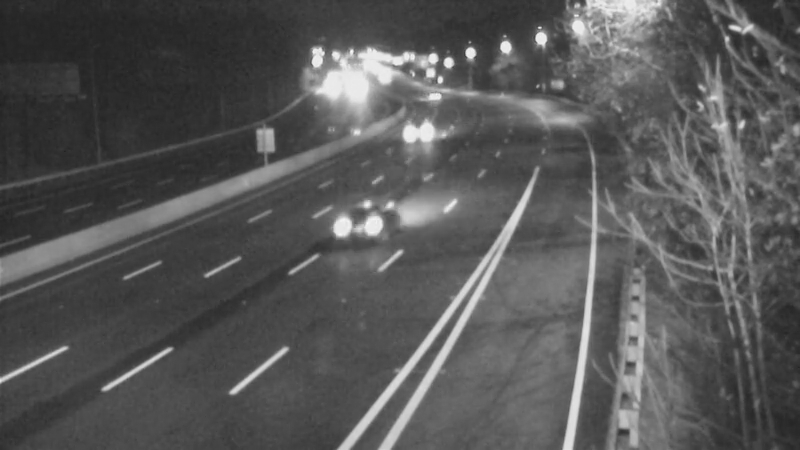vehicle: (326, 185, 406, 265), (403, 68, 453, 118), (402, 101, 452, 151)
